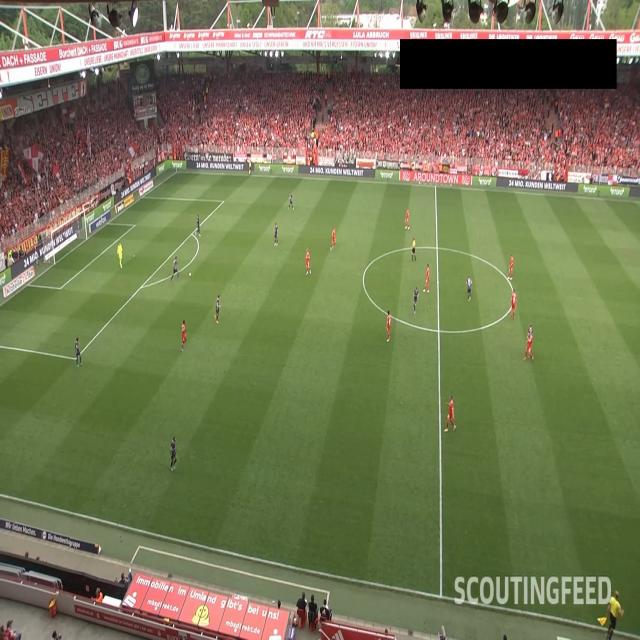ball: (188, 272, 192, 277)
